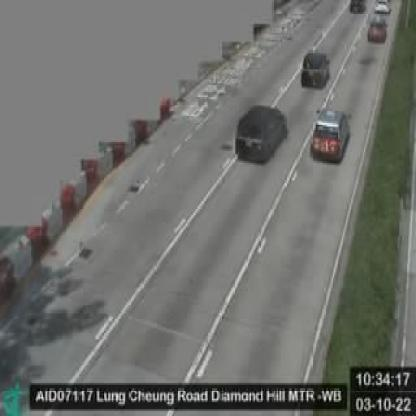Car: (235, 106, 286, 158), (311, 106, 351, 161), (300, 52, 329, 85), (366, 14, 388, 45)
